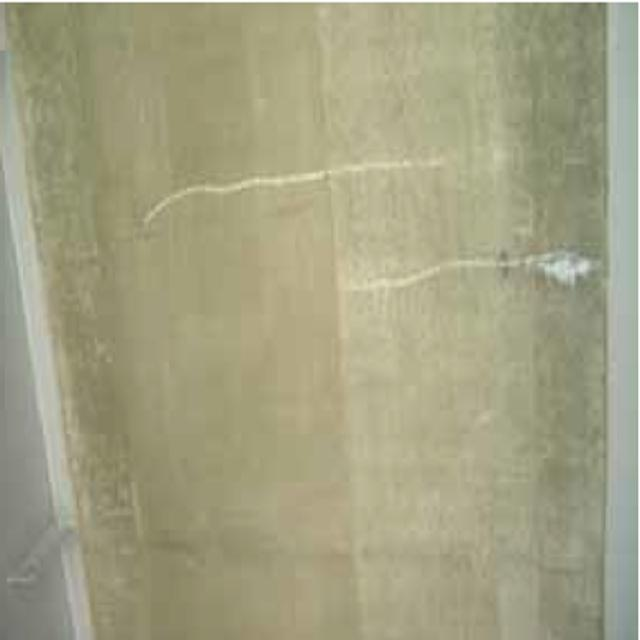crack: (113, 157, 493, 224), (349, 246, 597, 306)
